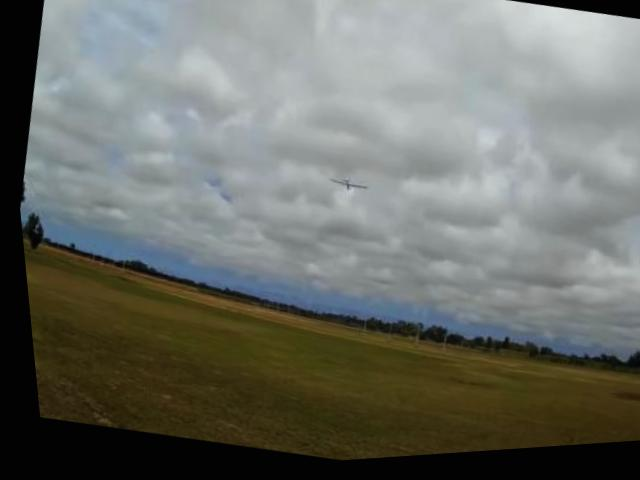uav: (315, 171, 372, 212)
